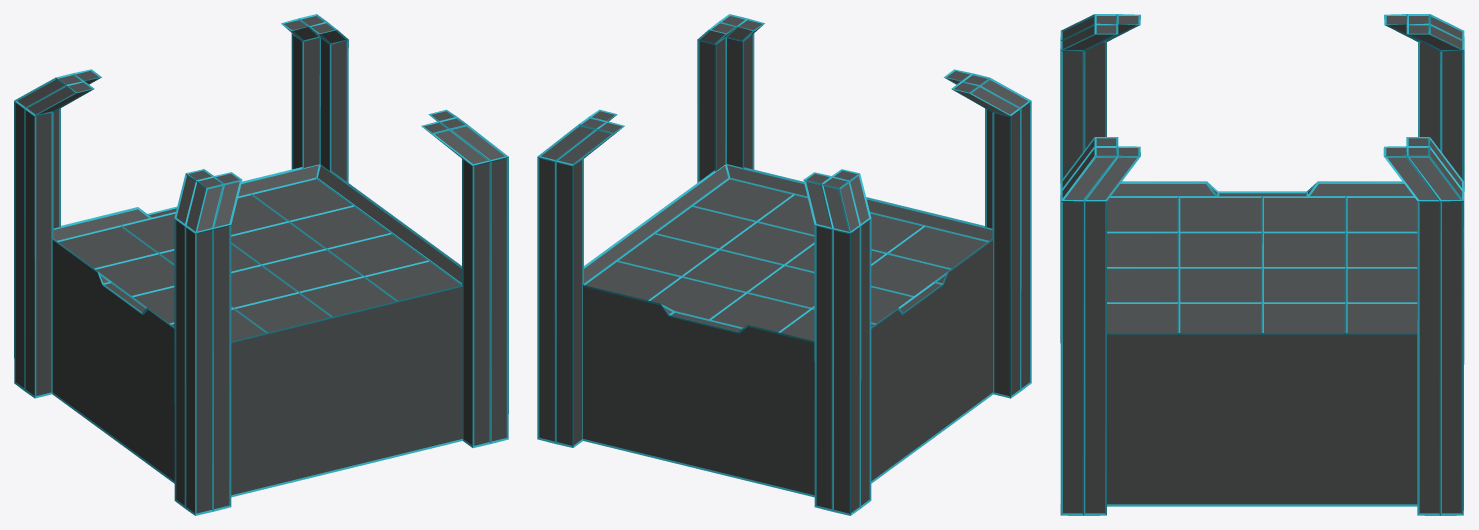
The model's file is struct1.dae.
The picture shows the model from 3 angles, left to right: view 1: azimuth 30°, elevation 25°; view 2: azimuth 150°, elevation 25°; view 3: azimuth 270°, elevation 25°; orthographic projection. The views are drawn at different scales.
Parts seen in each view (by area): view 1: Export_struct1_a, Export_struct1_b; view 2: Export_struct1_a, Export_struct1_b; view 3: Export_struct1_a, Export_struct1_b.
Boxes of the visible parts, <box> form: Export_struct1_a: <box>15,16,506,513</box>; Export_struct1_b: <box>14,14,508,515</box>; Export_struct1_a: <box>539,16,1029,513</box>; Export_struct1_b: <box>537,14,1031,515</box>; Export_struct1_a: <box>1062,16,1462,513</box>; Export_struct1_b: <box>1060,14,1464,515</box>.
Size of what is drawn, in the model's own units: 72.39 by 72.46 by 68.46.
